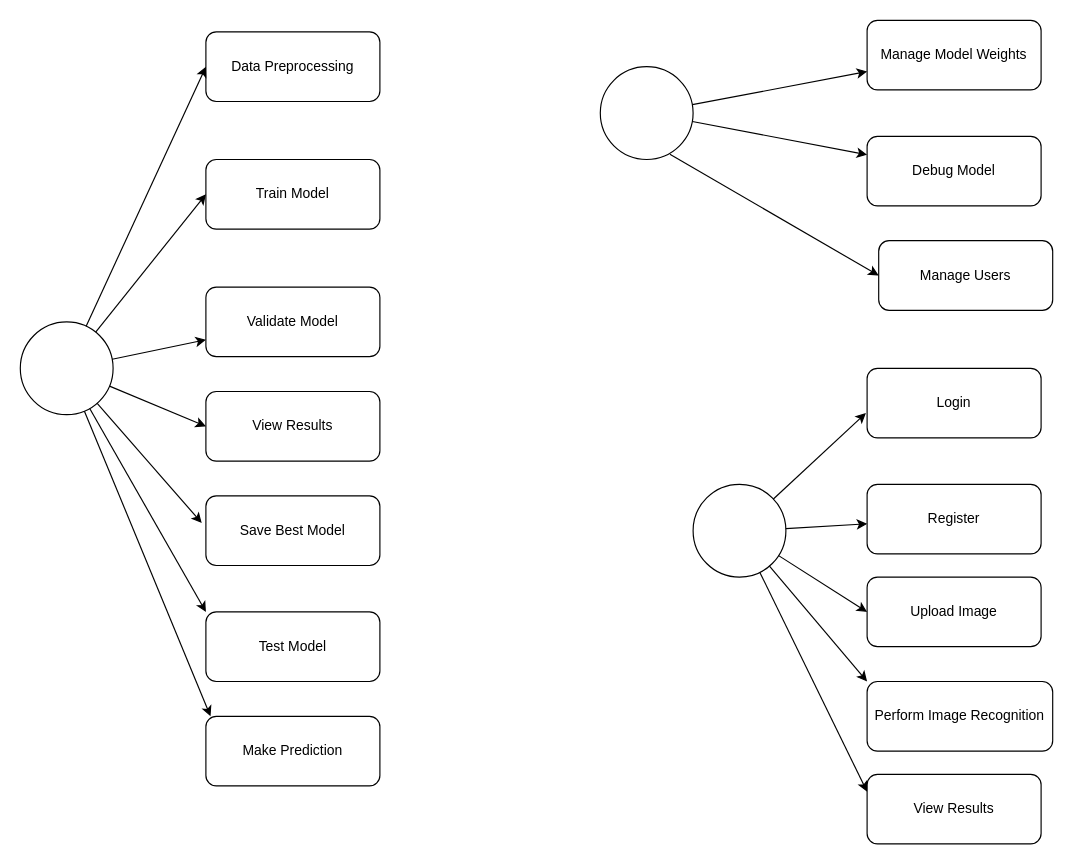
This 1073x864 diagram has some shape labels left out. The box of each missing label's shape, as (x1, y1, x2, y2) in pixels:
Admin: (599, 66, 693, 160)
Developer: (19, 321, 113, 415)
User: (692, 483, 786, 577)
